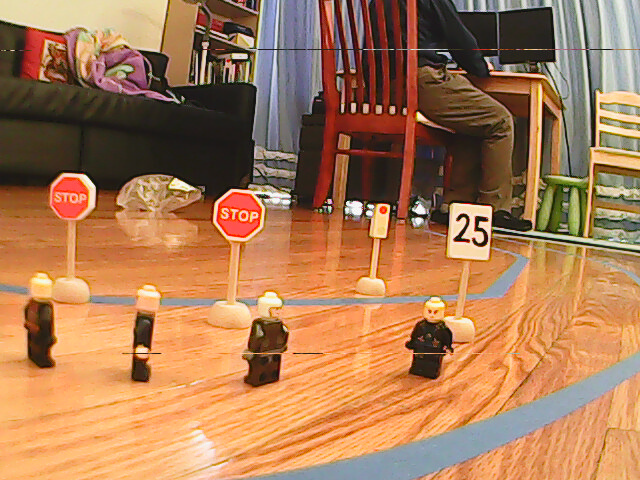Person: (246, 295, 291, 390), (406, 298, 454, 380), (23, 271, 60, 370), (124, 283, 159, 381)
Red Traffic Light: (370, 203, 389, 241)
Speed Limit 25: (446, 201, 492, 265)
Stop Sign: (213, 189, 263, 245), (50, 173, 96, 223)
